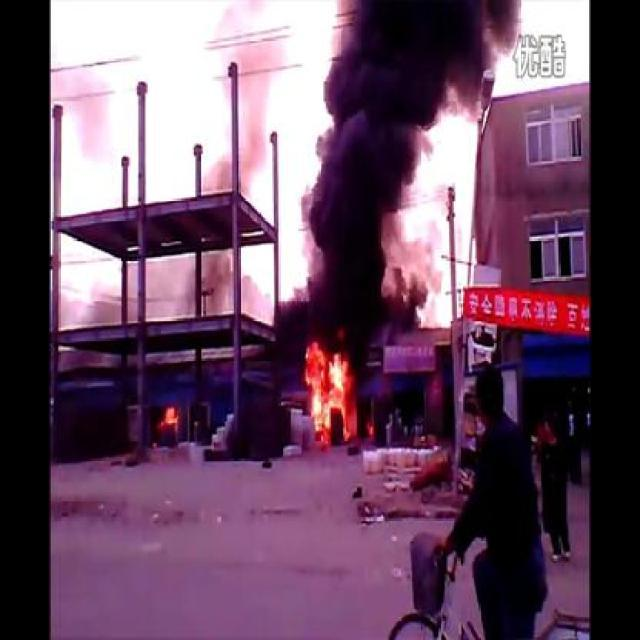Fire: (308, 339, 365, 452), (152, 406, 185, 444)
Smoke: (310, 2, 506, 334)
